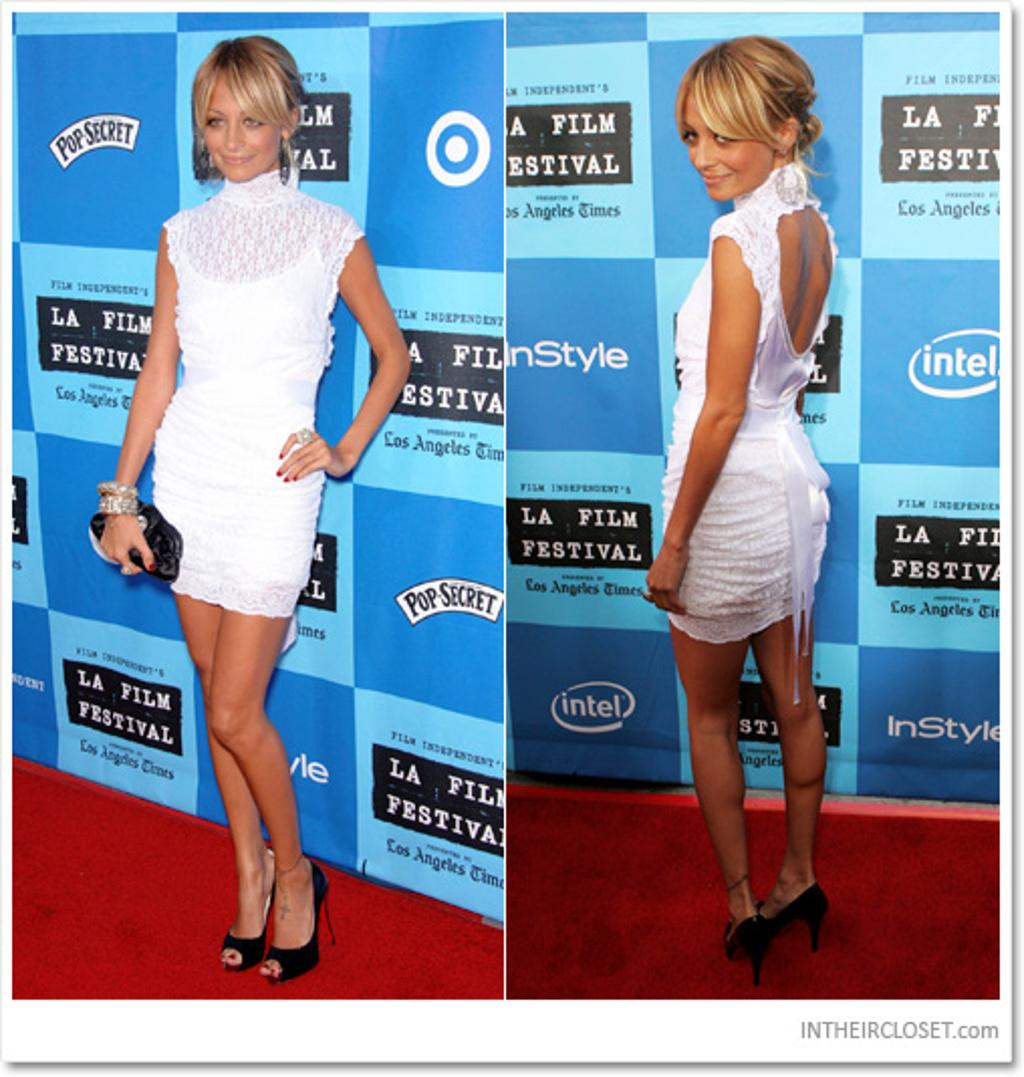face: (683, 69, 776, 197), (202, 67, 282, 181)
